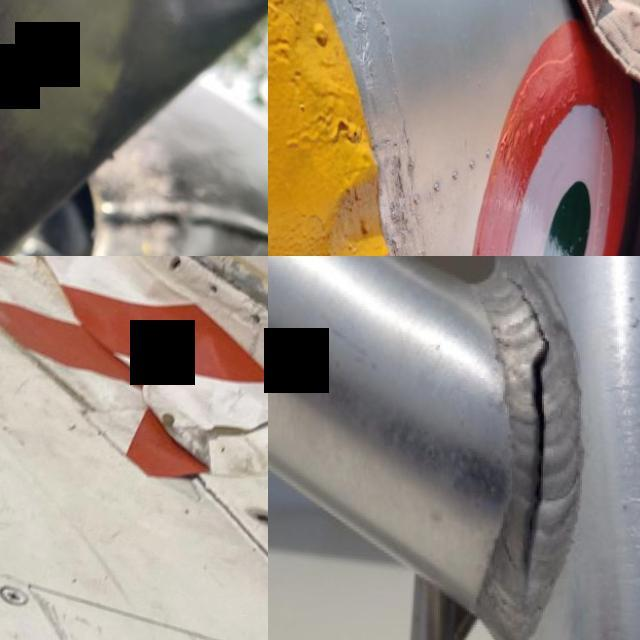Crack: (47, 256, 268, 373), (500, 260, 559, 604)
Dent: (292, 138, 451, 256)
